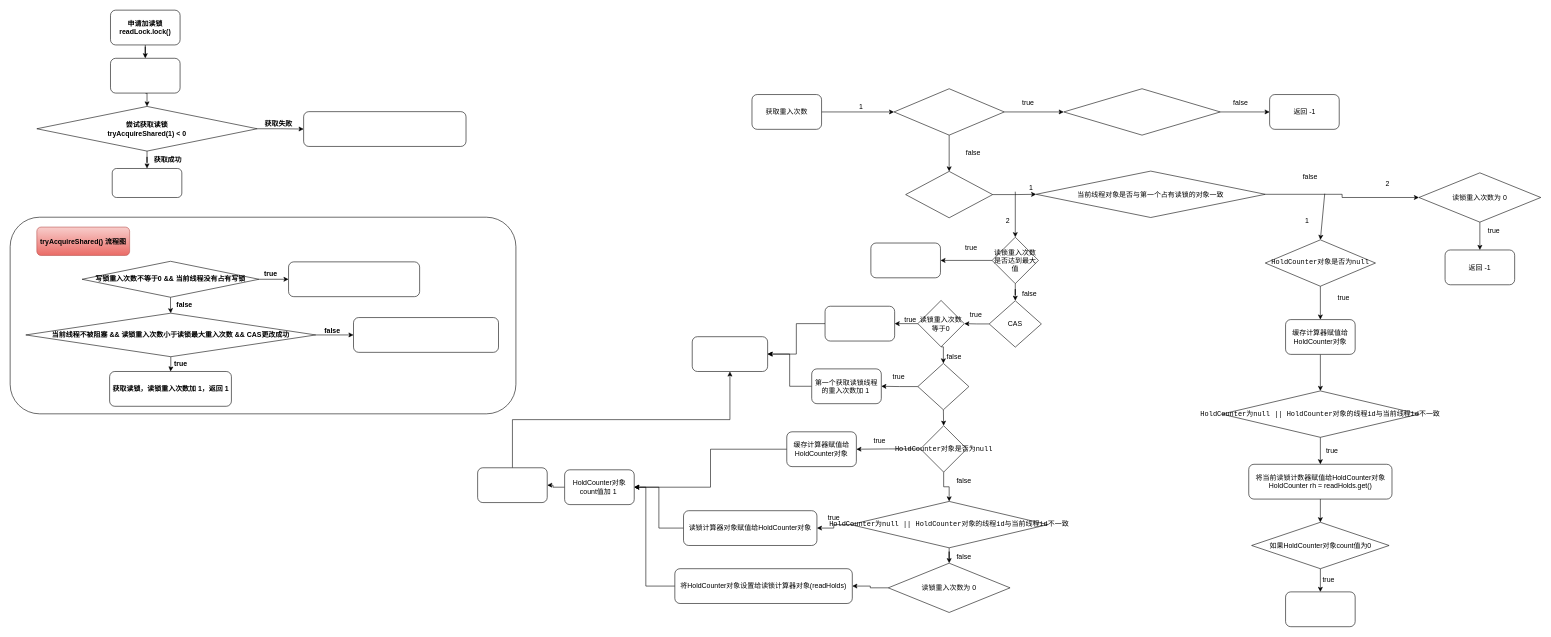
This 1551x637 diagram has some shape labels left out. Each missing label, with the box of its shape:
HoldCounter对象赋值给缓存计算器: (477, 467, 547, 503)
写锁重入次数不等于0: (893, 88, 1004, 135)
占有写锁的线程与当前线程对象一致: (1063, 88, 1220, 135)
当前线程为获取读锁的第一个线程: (917, 363, 969, 410)
当前线程加入等待队列，自旋直到获取到读锁 doAcquireShared(1): (303, 111, 466, 146)
成功获取读锁: (112, 168, 182, 197)
执行 fullTryAcquireShared()自旋获取读锁: (353, 317, 499, 352)
抛异常: (870, 242, 940, 278)
移除readHolds: (1285, 591, 1355, 627)
设置当前线程为第一个获取读锁的线程: (824, 306, 895, 341)
读锁是否需要阻塞: (905, 171, 993, 218)
读锁请求加1 acquireShared( 1 ): (110, 58, 180, 93)
返回 -1 ，执行 doAcquireShared(1): (288, 261, 420, 297)
返回 1 ，成功获取读锁: (692, 336, 768, 371)
